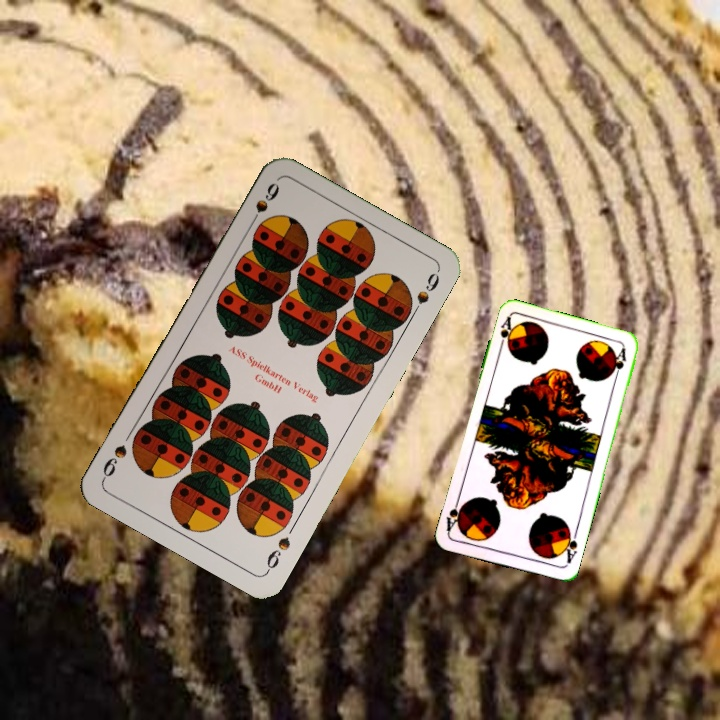S9: (244, 178, 282, 232), (262, 533, 293, 575)
SA: (558, 526, 580, 567), (495, 313, 517, 353)
